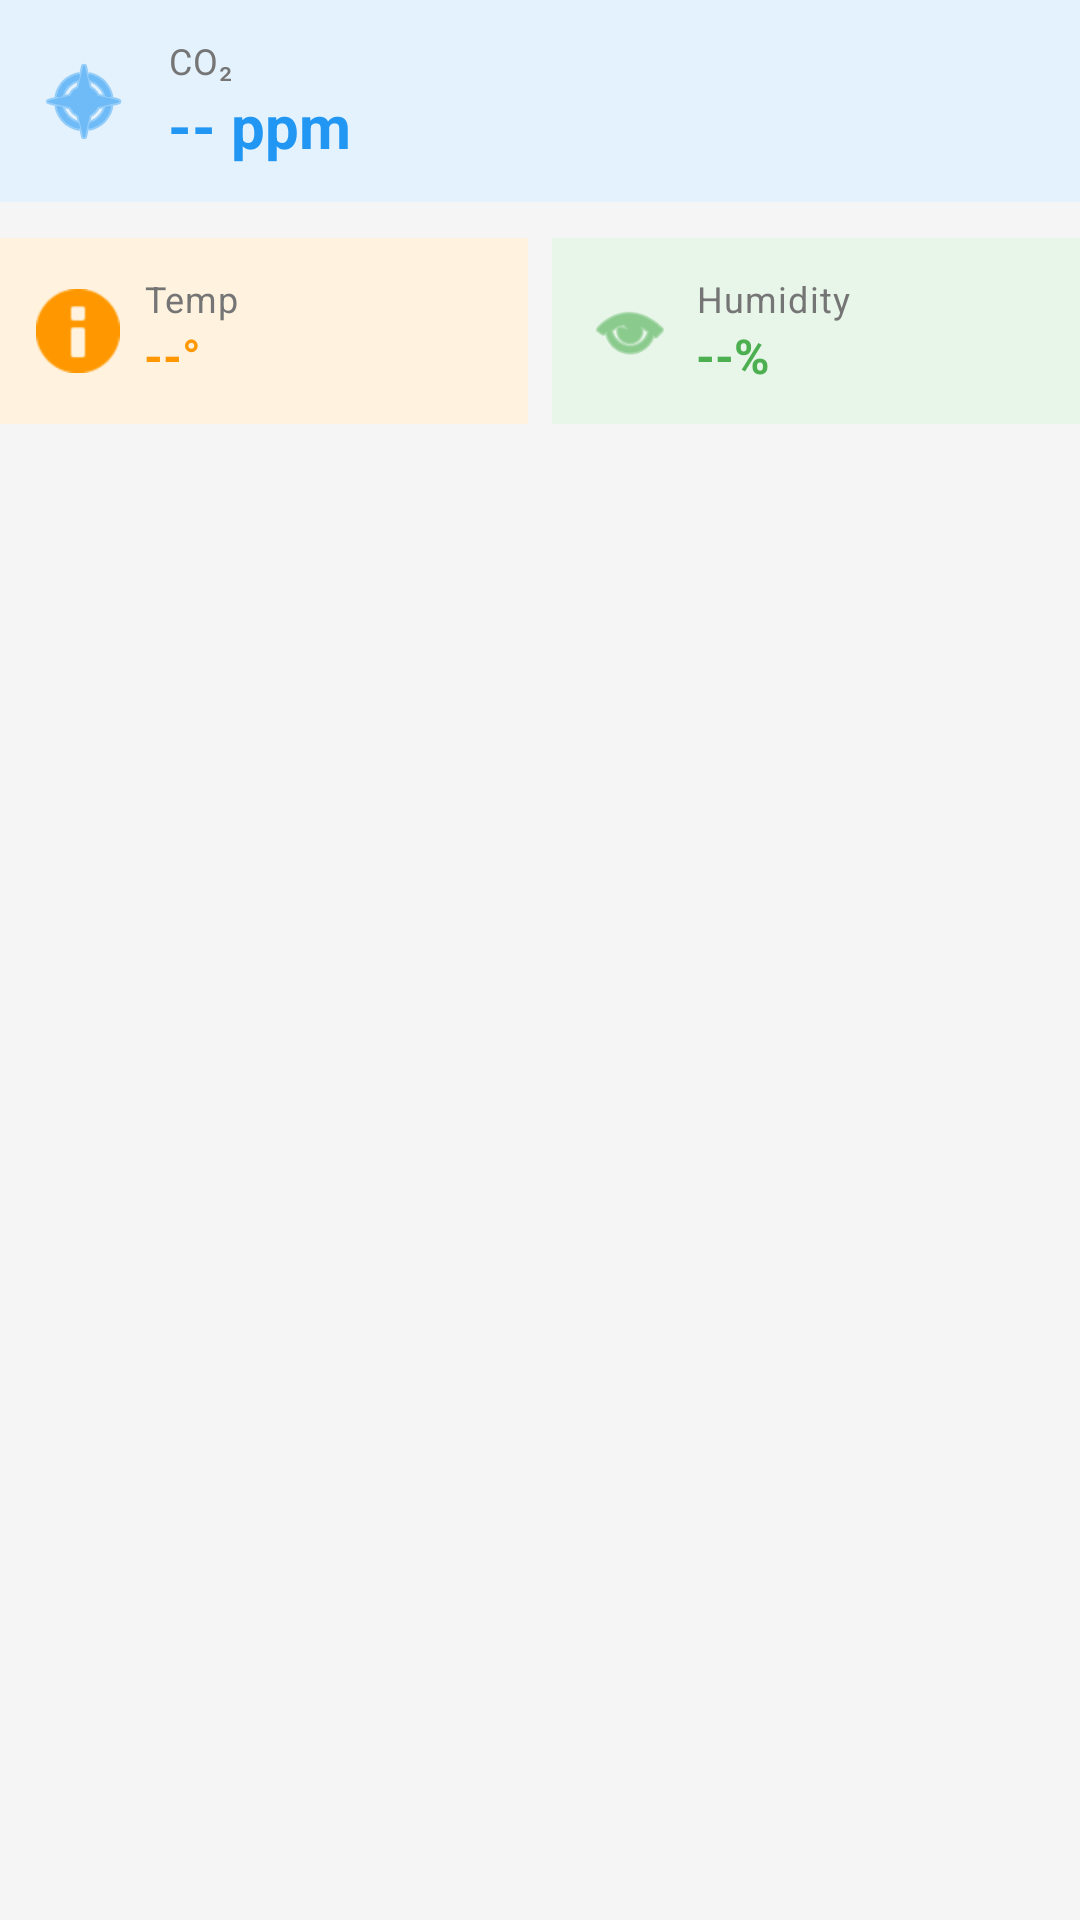

Named icons in this screenshot (1080w x 1920h) and their centers, (x,y):
info: (78,331)
view: (630,333)
